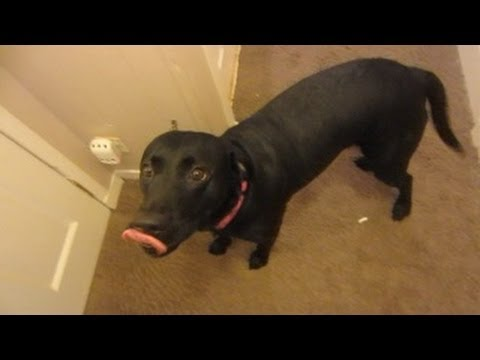tail: (417, 69, 473, 161)
